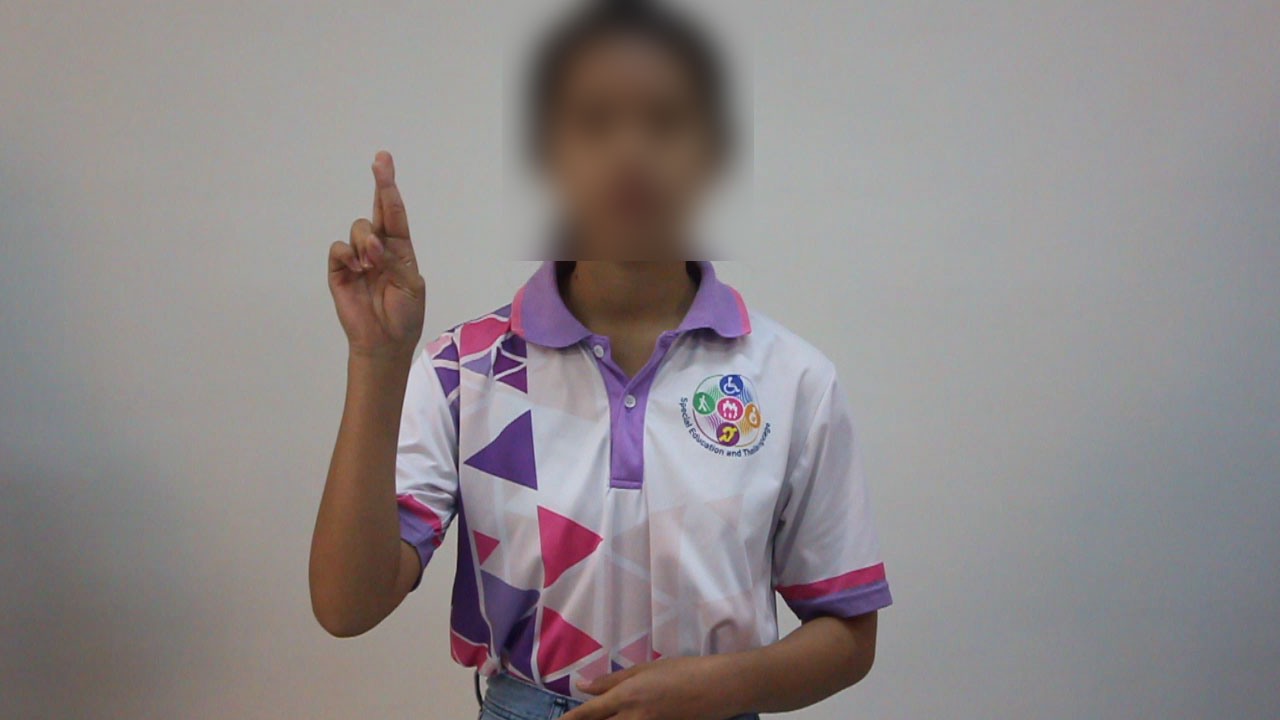rao: (315, 138, 439, 363)
